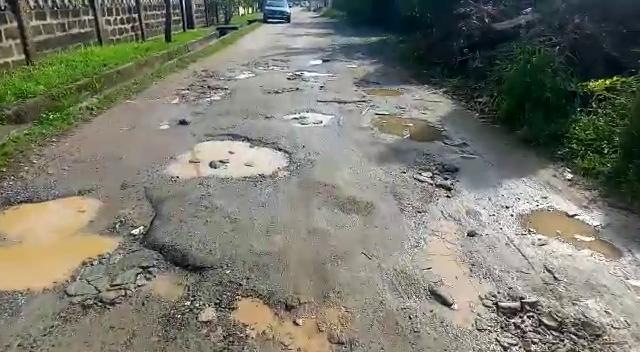pothole: (1, 189, 206, 305), (204, 290, 370, 351), (476, 294, 619, 350), (513, 203, 632, 256), (176, 134, 301, 182), (368, 113, 454, 145), (399, 161, 458, 200), (177, 83, 233, 108), (282, 109, 331, 126), (355, 85, 405, 97), (316, 97, 382, 106), (262, 85, 303, 95)
